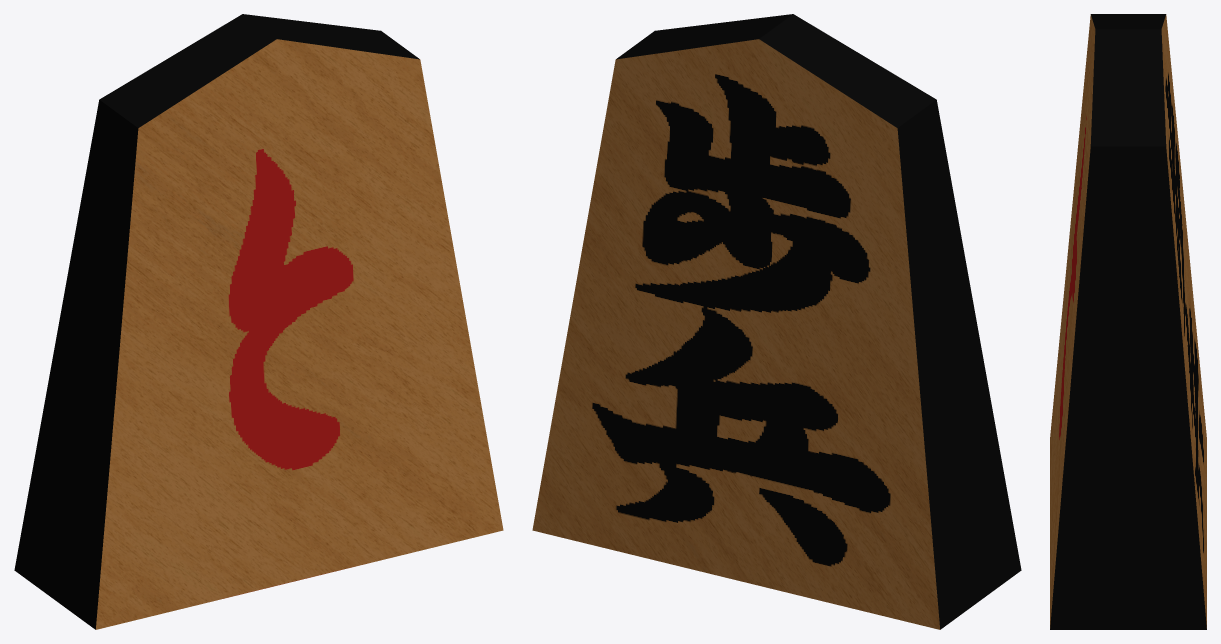
The picture shows the model from 3 angles, left to right: view 1: azimuth 30°, elevation 25°; view 2: azimuth 150°, elevation 25°; view 3: azimuth 270°, elevation 25°; orthographic projection. The views are drawn at different scales.
Visible parts, largest first — view 1: 歩; view 2: 歩; view 3: 歩.
Part boxes in pixels (x1,y1,x2,y2): 歩: (14, 14, 503, 629); 歩: (532, 14, 1021, 629); 歩: (1050, 14, 1206, 629).
Size of the model in its own units: 2.2 by 2.7 by 0.76.
1 material, 1 textured.
